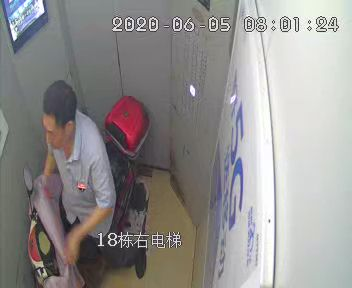Electric-bicycle: (22, 94, 147, 287)
